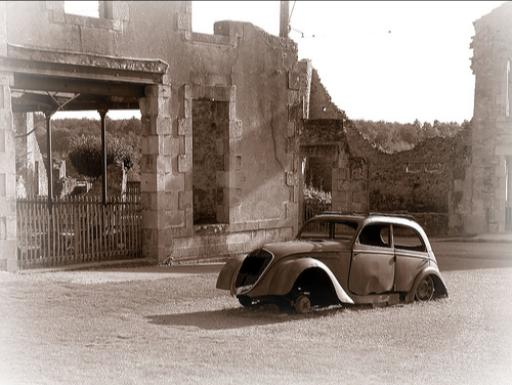Cheetah: (208, 196, 460, 342)
